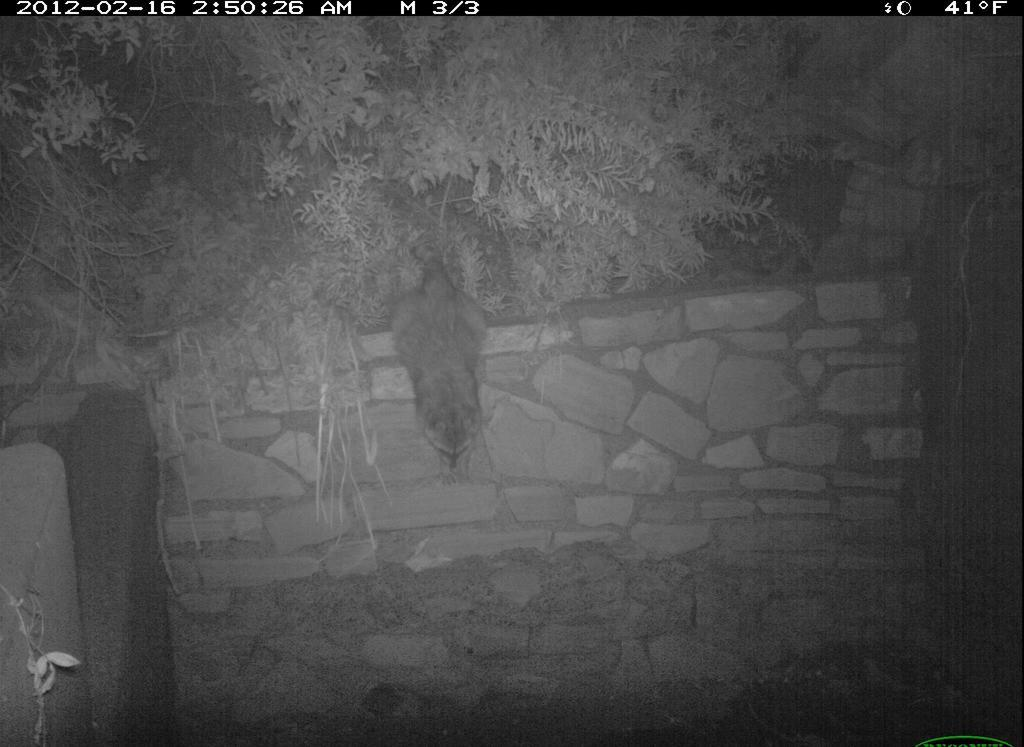raccoon: (385, 263, 502, 475)
